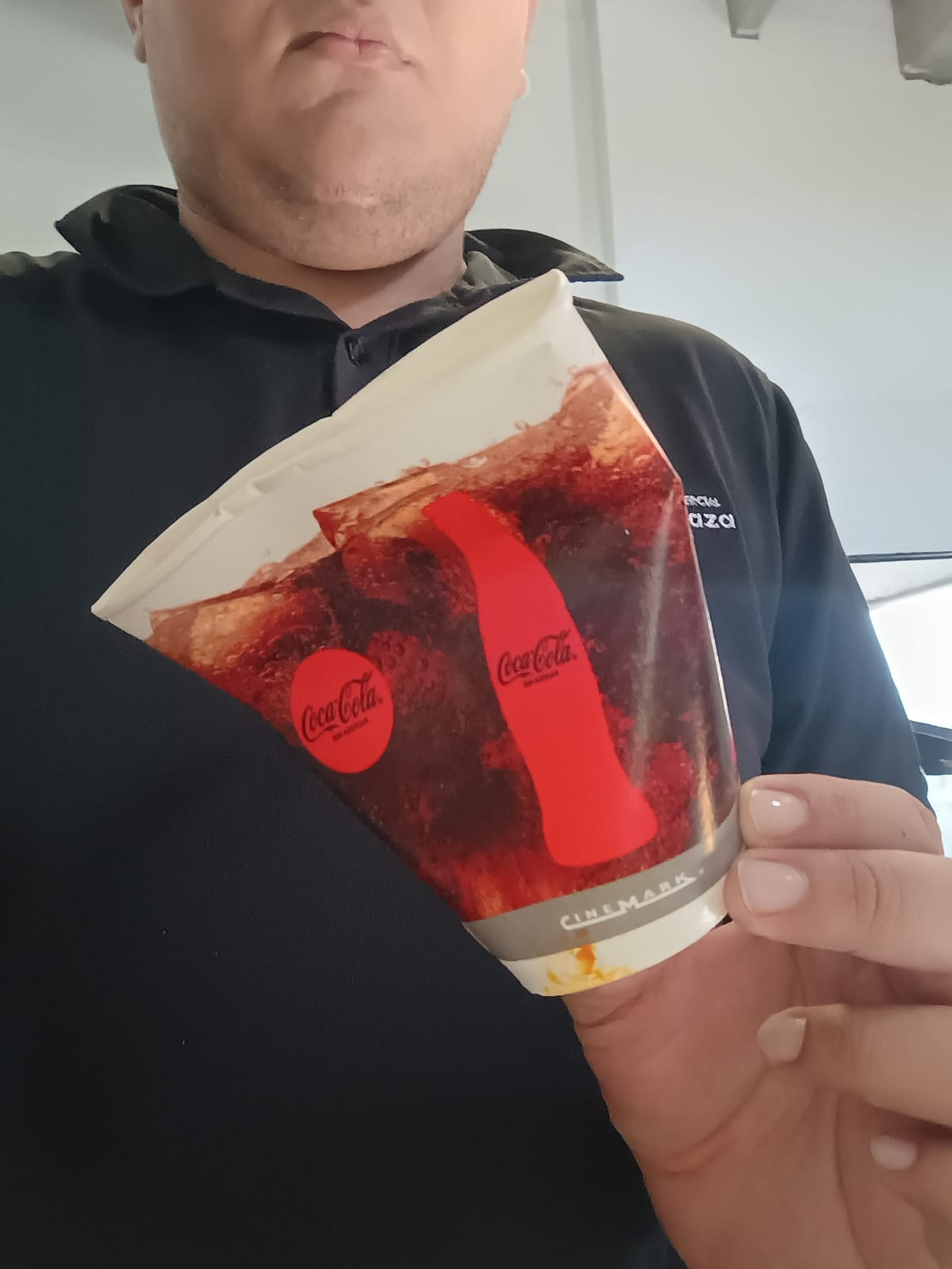Carton: (83, 271, 754, 1002)
